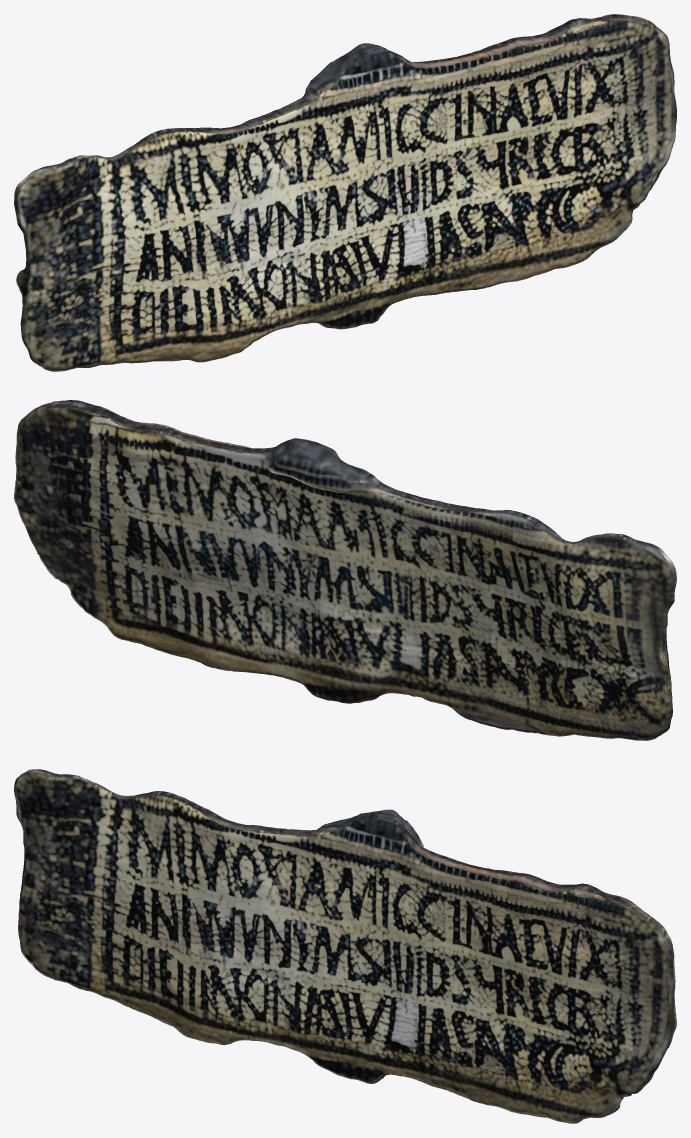
Rendered from primary-compressed.glb.
The picture shows the model from 3 angles, top to bottom: view 1: azimuth 30°, elevation 25°; view 2: azimuth 150°, elevation 25°; view 3: azimuth 330°, elevation 25°; orthographic projection.
Size of the model in its own units: 2 by 0.7657 by 0.167.
1 material, 1 textured.
